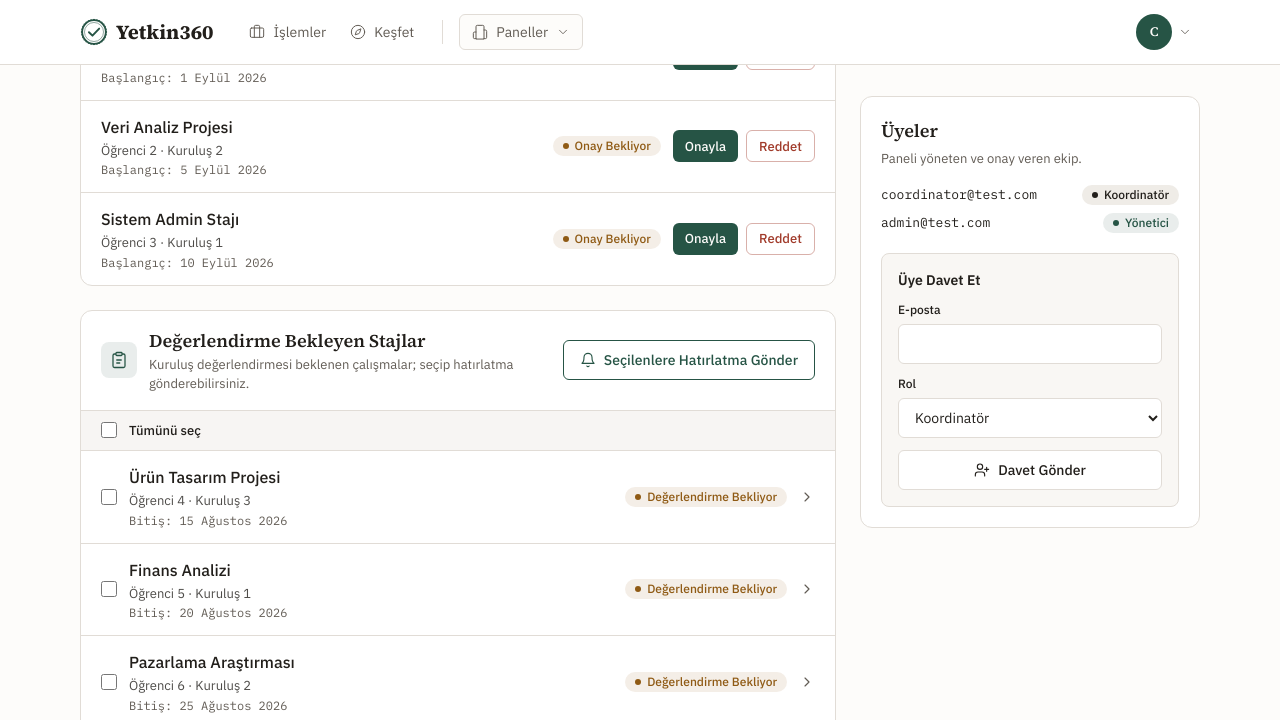
Scenario: KurumPanelPage (/kurum/[id]/panel) › YET-202/ENT-01: Toplu hatırlatma › hiçbir şey seçilmeden gönderilirse uyarı gösterilir, createReminders çağrılmaz
The width and height of the screenshot is (1280, 720).
(page scrolled)
Step 1. Click the button "Seçilenlere Hatırlatma Gönder" → point(689, 360), box top-left (563, 340), bottom-right (815, 380)
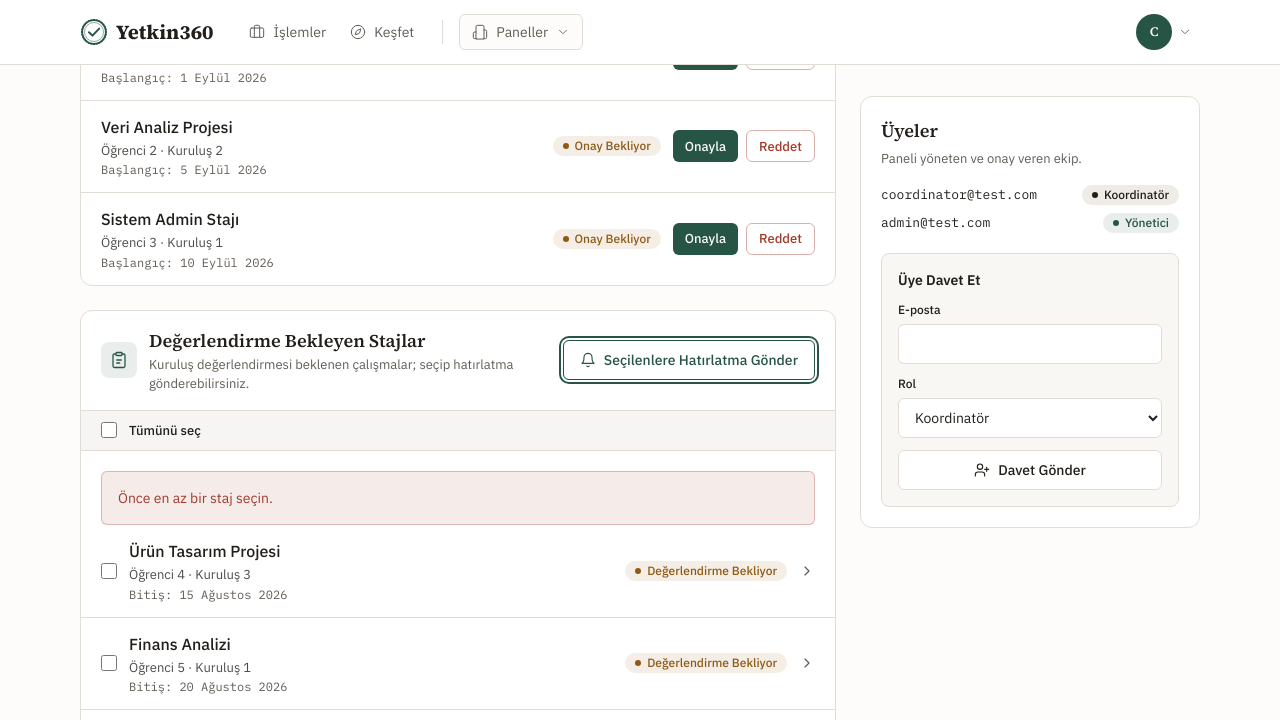
Expected: the text "Önce en az bir staj seçin." is shown, top-left (101, 471), bottom-right (815, 525)
